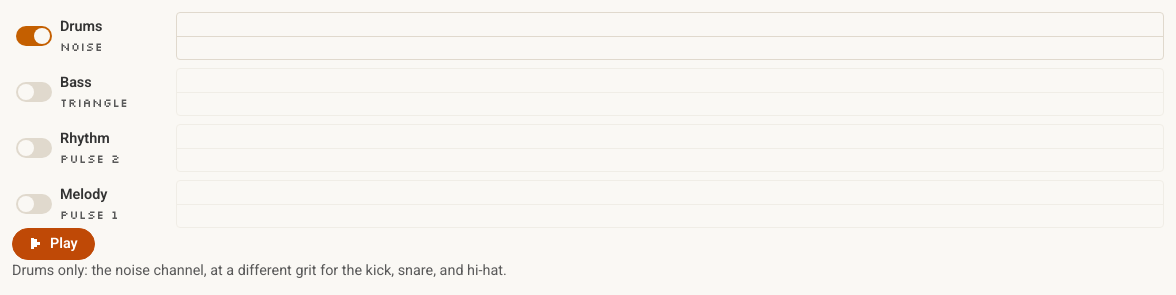
Test: JukeboxDemo › flips switches while stopped
Click the switch labelled "Melody Pulse 1" at (88, 204), box [12, 180, 164, 228]
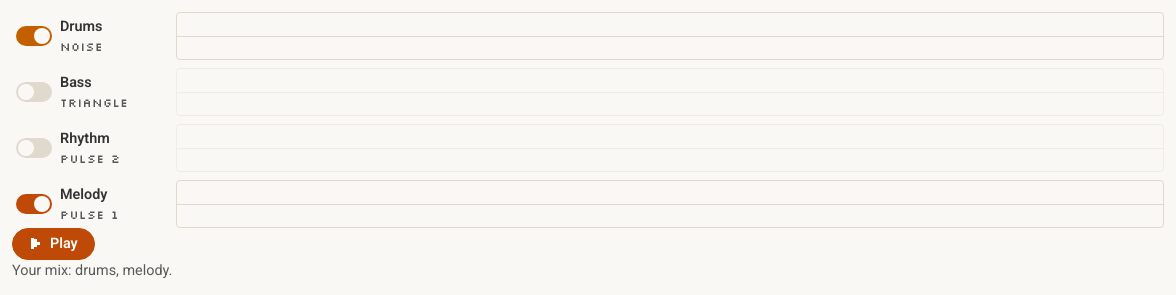
Check: the text "Your mix: drums, melody." is shown, box [12, 262, 172, 279]
